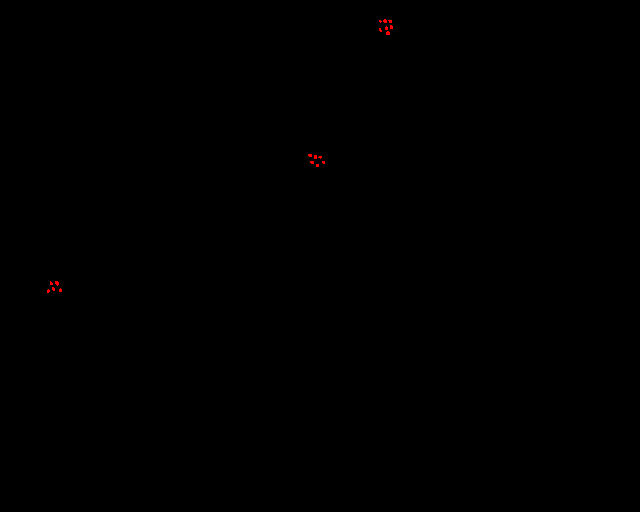Target: (55, 281, 59, 286), (383, 19, 387, 23), (386, 31, 390, 35), (388, 20, 392, 23), (390, 25, 393, 29), (385, 26, 388, 30), (379, 28, 382, 32), (308, 154, 312, 157), (314, 155, 317, 159), (318, 156, 322, 159), (310, 161, 314, 164), (50, 281, 53, 285), (52, 287, 55, 291), (59, 288, 62, 292), (47, 289, 50, 293), (379, 20, 382, 23), (322, 161, 325, 164), (316, 164, 319, 167)
